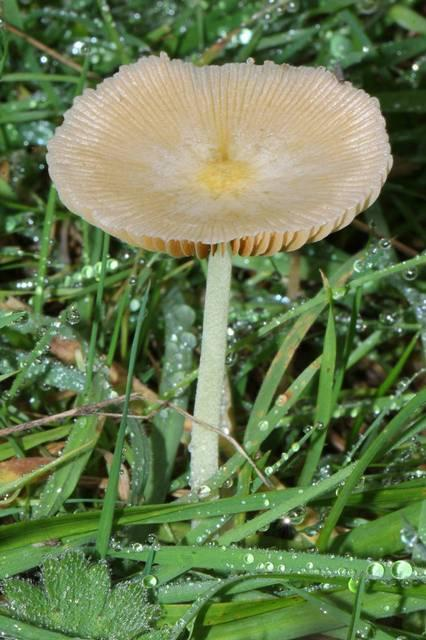Edible Mushroom: (44, 51, 394, 531)
